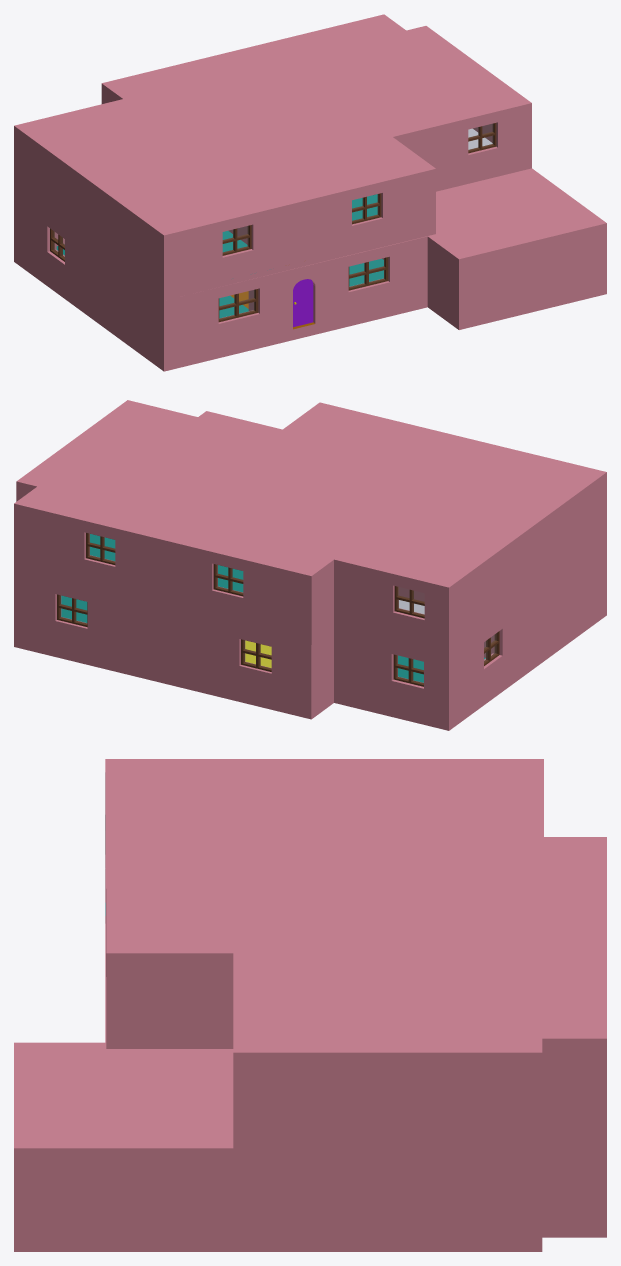
The model's file is SimpsonsHouse6.fbx.
3 renders of one model, top to bottom at view 1: azimuth 30°, elevation 25°; view 2: azimuth 150°, elevation 25°; view 3: azimuth 270°, elevation 25°, orthographic. The views are drawn at different scales.
Visible parts, largest first — view 1: Roof2, Walls2, Walls1, Roof1, Floor1, Floor2, Window5, Window6, DoorFinal, Window7, Window8, Window11; view 2: Roof2, Walls2, Walls1, Floor1, Floor2, Window3, Window9, Window1, Window2, Window12, Window10, Roof1; view 3: Roof2, Walls2, Walls1, Roof1, Floor1, Floor2.
Boxes of the visible parts, left/top/right/bottom form: Roof2: left=16, top=15, right=530, bottom=234; Walls2: left=14, top=14, right=531, bottom=295; Walls1: left=14, top=168, right=606, bottom=360; Roof1: left=427, top=168, right=605, bottom=258; Floor1: left=14, top=246, right=606, bottom=371; Floor2: left=14, top=128, right=531, bottom=300; Window5: left=218, top=289, right=258, bottom=322; Window6: left=348, top=257, right=388, bottom=290; DoorFinal: left=293, top=279, right=313, bottom=327; Window7: left=352, top=193, right=381, bottom=224; Window8: left=222, top=225, right=251, bottom=255; Window11: left=468, top=123, right=496, bottom=153; Roof2: left=16, top=400, right=605, bottom=585; Walls2: left=14, top=400, right=606, bottom=650; Walls1: left=14, top=411, right=606, bottom=719; Floor1: left=14, top=595, right=606, bottom=730; Floor2: left=14, top=534, right=606, bottom=656; Window3: left=57, top=594, right=87, bottom=627; Window9: left=213, top=564, right=243, bottom=596; Window1: left=393, top=654, right=423, bottom=686; Window2: left=241, top=639, right=271, bottom=671; Window12: left=394, top=586, right=424, bottom=618; Window10: left=86, top=533, right=115, bottom=564; Roof1: left=200, top=411, right=280, bottom=435; Roof2: left=105, top=759, right=606, bottom=1052; Walls2: left=105, top=759, right=606, bottom=1140; Walls1: left=14, top=868, right=606, bottom=1236; Roof1: left=14, top=874, right=233, bottom=1148; Floor1: left=14, top=1222, right=606, bottom=1251; Floor2: left=105, top=860, right=606, bottom=1148.
Size of the model in its own units: 1685 by 533 by 1438.
